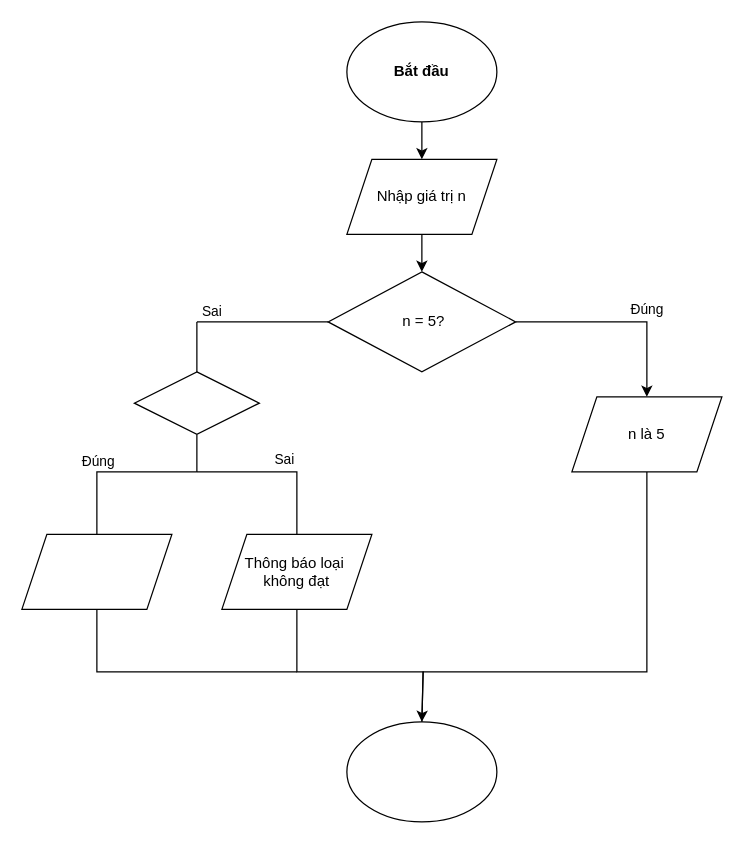
The diagram is 744 pixels wide and 844 high, and some of its shapes have lost their labels. The shapes that lost their labels are listed below. From the top down, each one's centre as x and y in pixels, then its label:
the point at 196,402: n > 5
the point at 96,571: Thông báo loại đạt
the point at 421,771: Kết thúc
